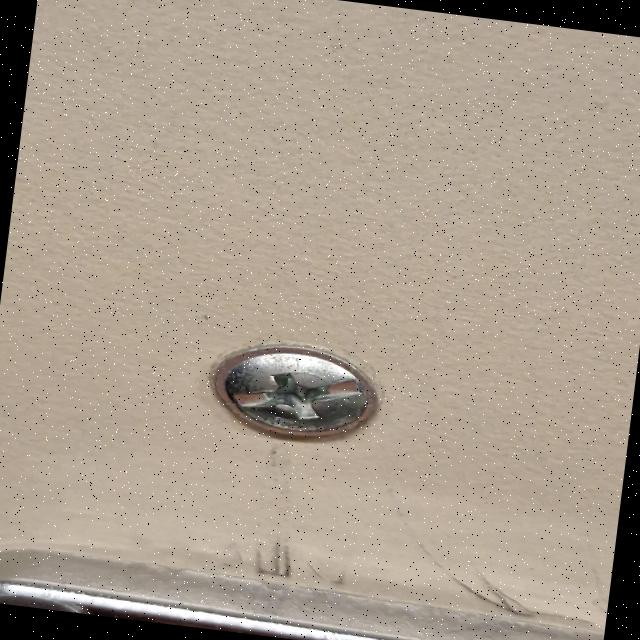Phillips: (160, 324, 415, 469)
